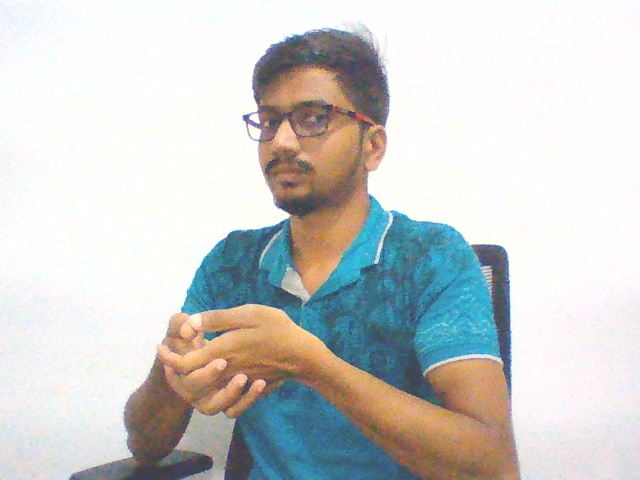mangosteen: (150, 298, 325, 425)
